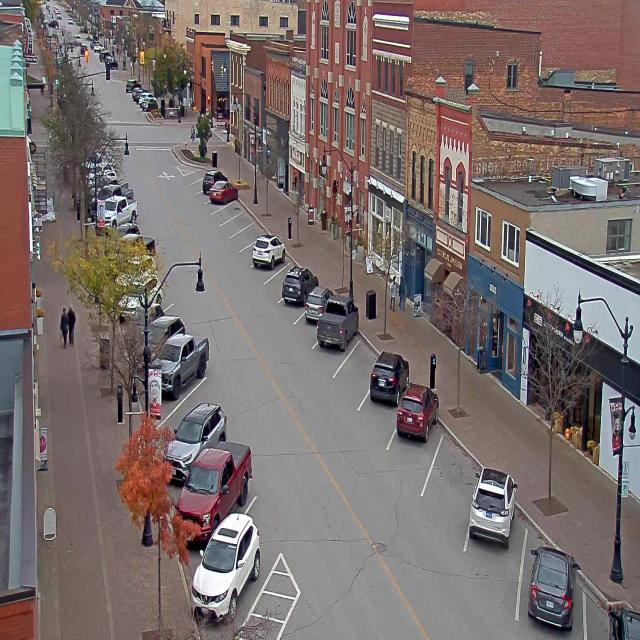available: (429, 428, 482, 515), (168, 366, 225, 419), (342, 331, 379, 390), (263, 262, 288, 298), (242, 216, 263, 246), (236, 243, 253, 272), (234, 208, 252, 231), (224, 194, 240, 218), (194, 160, 209, 180), (189, 176, 203, 196)
occupied: (191, 511, 260, 624), (179, 432, 255, 526), (163, 400, 227, 484), (526, 544, 580, 630), (468, 466, 517, 547), (152, 331, 209, 398), (588, 588, 639, 639), (392, 387, 431, 449), (316, 296, 358, 352), (368, 349, 409, 405), (282, 265, 318, 304), (252, 232, 285, 269), (302, 289, 324, 325), (209, 179, 238, 204), (201, 170, 218, 195)
